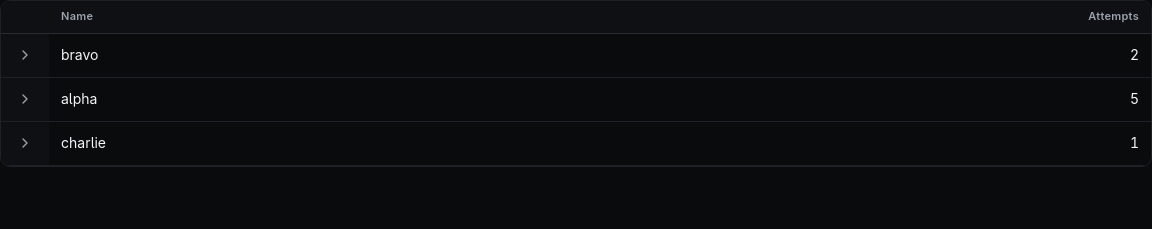
DataTable (D2 §13.5) › renders expandable rows
The width and height of the screenshot is (1152, 229).
Click the button named "Expand row" next to "bravo". click: point(25, 55)
box: [13,43,37,67]
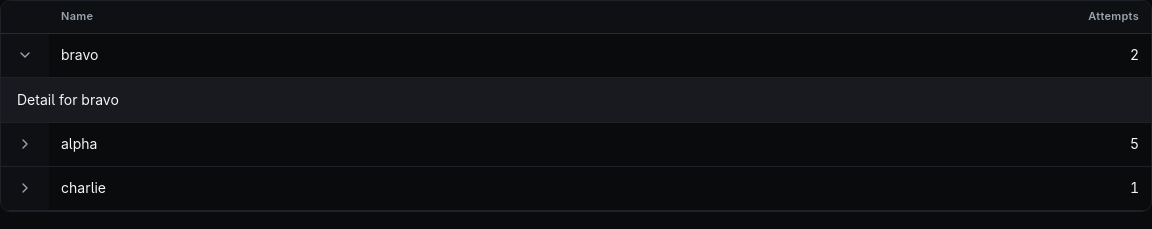
Expected: the text "Detail for bravo" is shown, [17,91,119,108]
